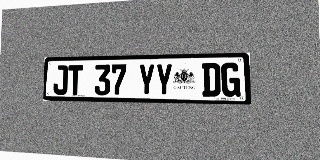3: (94, 64, 110, 95)
7: (110, 64, 127, 96)
D: (202, 63, 221, 97)
G: (221, 62, 240, 97)
J: (53, 65, 68, 95)
T: (68, 65, 83, 95)
Y: (155, 63, 173, 96), (138, 64, 155, 96)
